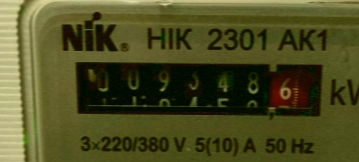0: (93, 69, 110, 95), (124, 66, 139, 92)
3: (185, 68, 200, 93)
4: (212, 66, 231, 96)
6: (275, 75, 292, 104)
8: (244, 69, 260, 97)
9: (155, 70, 170, 97)
screen: (56, 49, 335, 129)
